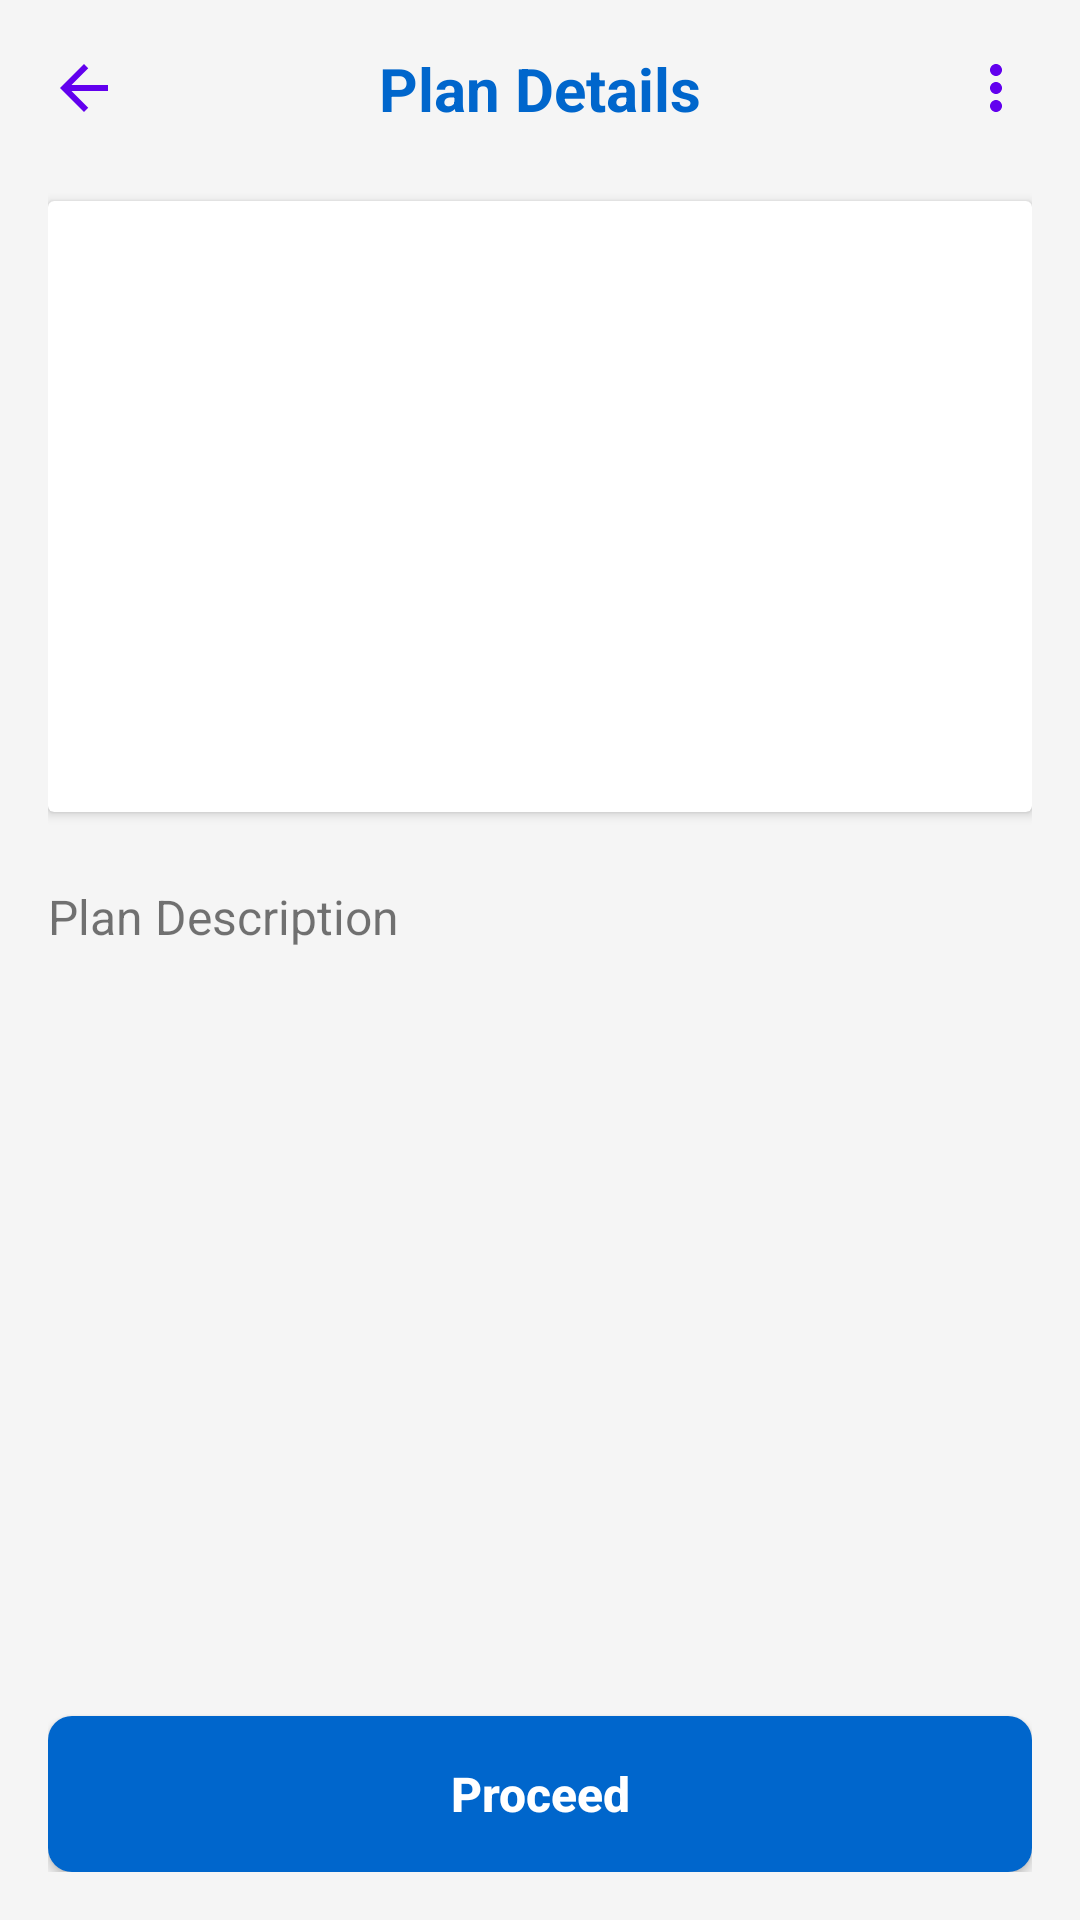

Icon bounding boxes for this 1080px x 1920px phone screenshot, format [x1, y1, x2, y2]:
Back: [60, 64, 108, 112]
Menu: [990, 64, 1002, 112]
